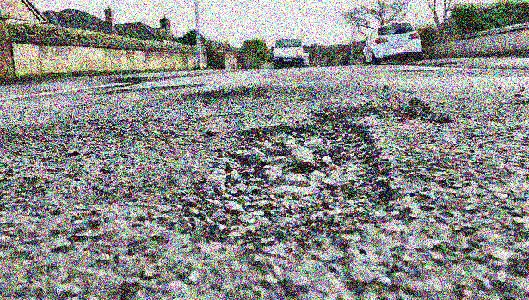pothole: (180, 111, 408, 243)
